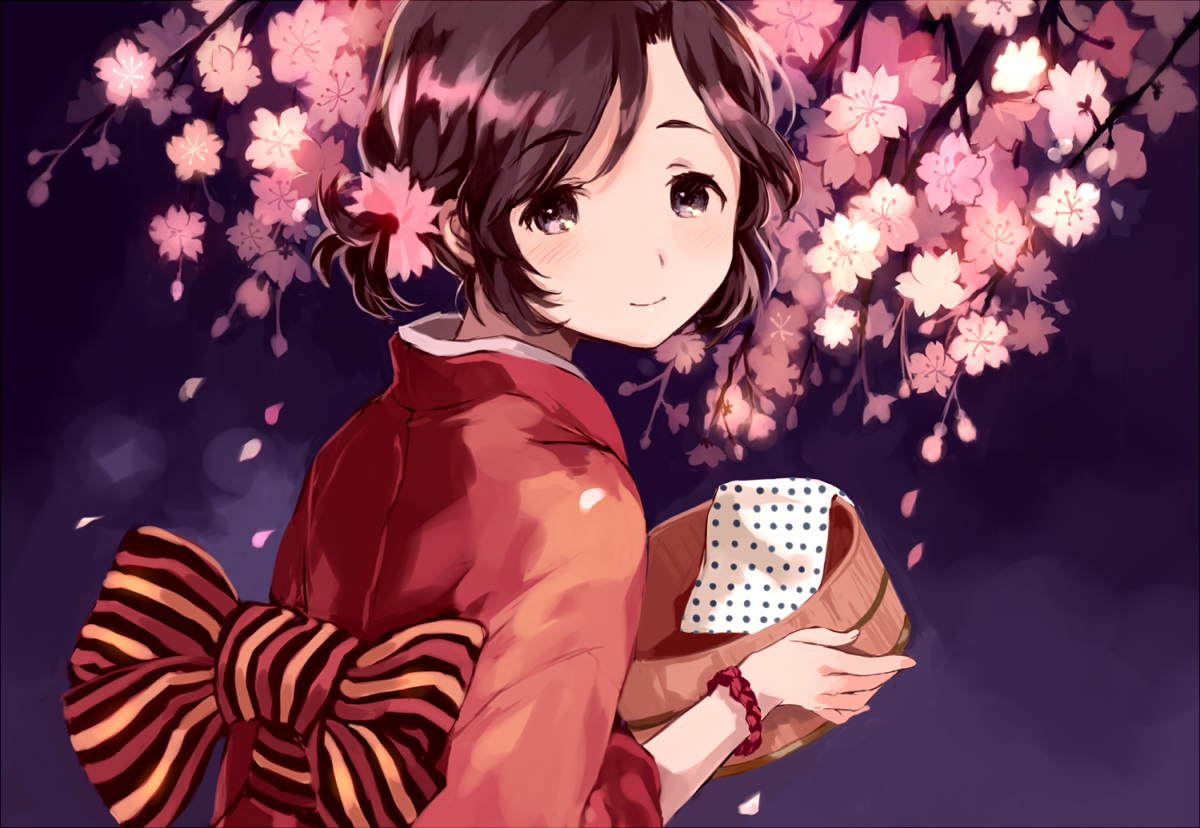纸片人正脸: (417, 19, 801, 354)
